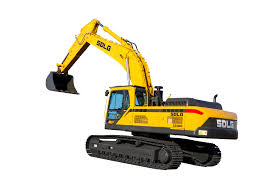excavator: (43, 18, 239, 171)
